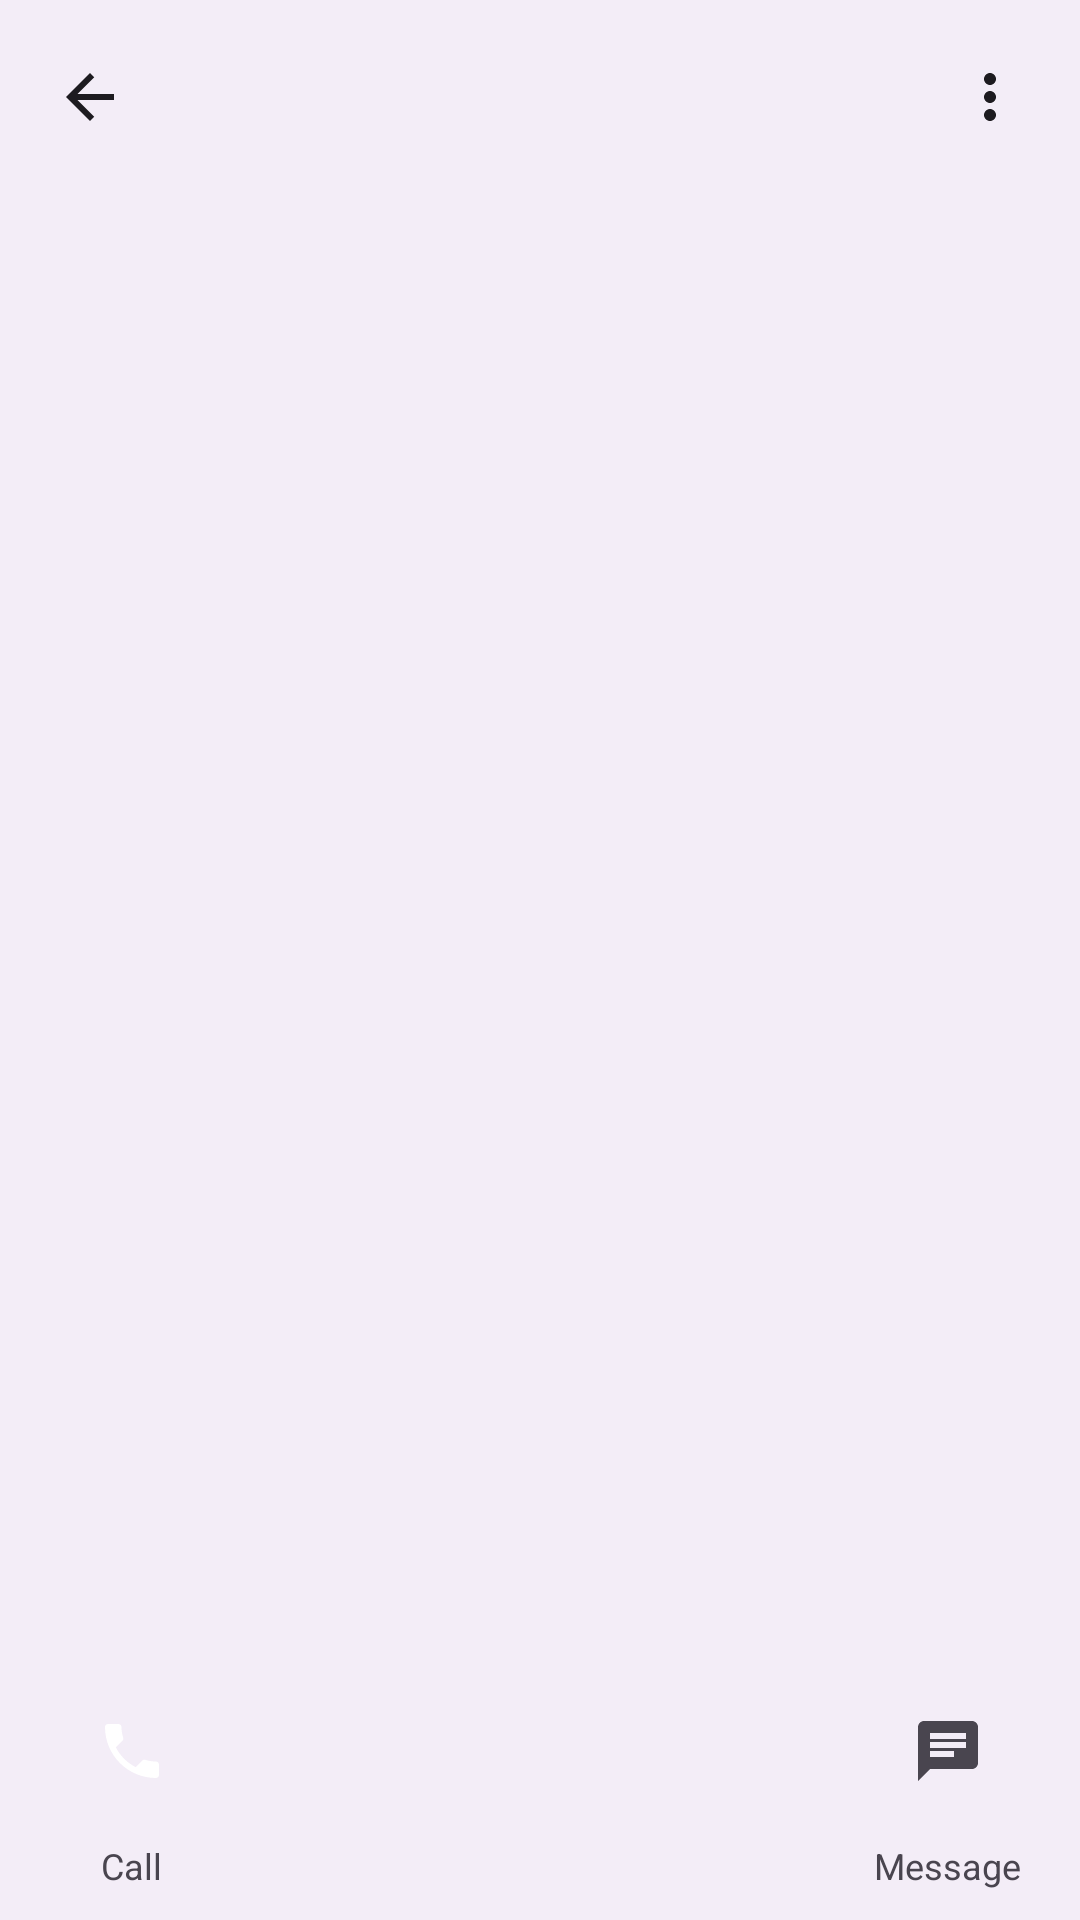

Point at icon controls on the screen. Image size 1080*1920, points as point (x, y).
More options: point (990, 97)
